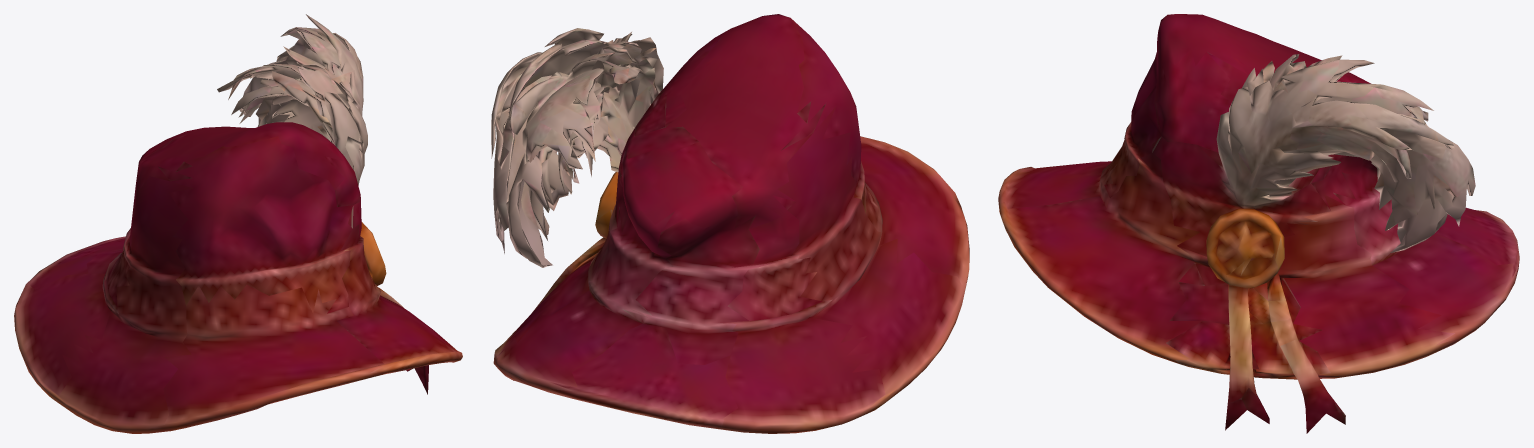
The model's file is hat_rhat.glb.
The picture shows the model from 3 angles, left to right: view 1: azimuth 30°, elevation 25°; view 2: azimuth 150°, elevation 25°; view 3: azimuth 270°, elevation 25°; orthographic projection. The views are drawn at different scales.
Visible parts, largest first — view 1: tripo_node_e618e934-7763-4e4a-9033-13a71fd91fea; view 2: tripo_node_e618e934-7763-4e4a-9033-13a71fd91fea; view 3: tripo_node_e618e934-7763-4e4a-9033-13a71fd91fea.
Boxes of the visible parts, bbox=[...] form: tripo_node_e618e934-7763-4e4a-9033-13a71fd91fea: bbox=[14, 14, 462, 433]; tripo_node_e618e934-7763-4e4a-9033-13a71fd91fea: bbox=[491, 14, 969, 433]; tripo_node_e618e934-7763-4e4a-9033-13a71fd91fea: bbox=[998, 14, 1519, 433].
Bounding box in the file's own units: 0.3121 × 0.3 × 0.4075.
1 material, 1 textured.
